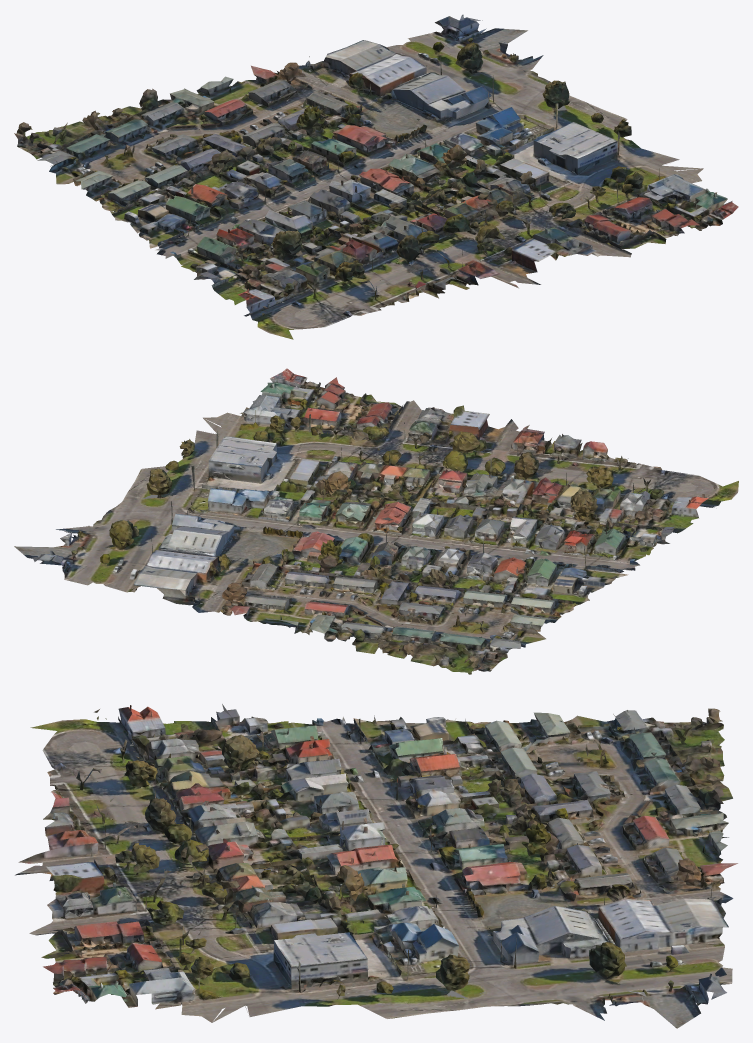
Rendered from Tile_009_013_L18.gltf.
3 renders of one model, top to bottom at view 1: azimuth 30°, elevation 25°; view 2: azimuth 150°, elevation 25°; view 3: azimuth 270°, elevation 25°, orthographic. The views are drawn at different scales.
Parts seen in each view (by area): view 1: Tile_+009_+013_L18; view 2: Tile_+009_+013_L18; view 3: Tile_+009_+013_L18.
Part boxes in pixels (bbox=[...]): Tile_+009_+013_L18: bbox=[14, 14, 738, 339]; Tile_+009_+013_L18: bbox=[14, 368, 738, 674]; Tile_+009_+013_L18: bbox=[15, 704, 737, 1028].
Size of the model in its own units: 224 by 13.89 by 219.
Materials: 1 (1 with a texture image).
